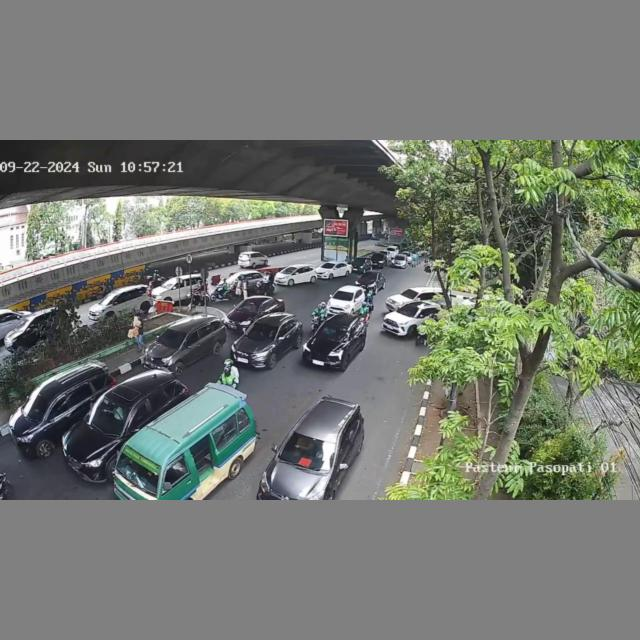windshield: (115, 447, 161, 492), (280, 433, 336, 469), (90, 397, 130, 435), (22, 390, 49, 416), (317, 322, 350, 340), (247, 322, 278, 341), (157, 330, 185, 347), (236, 300, 259, 310), (332, 292, 353, 299)
